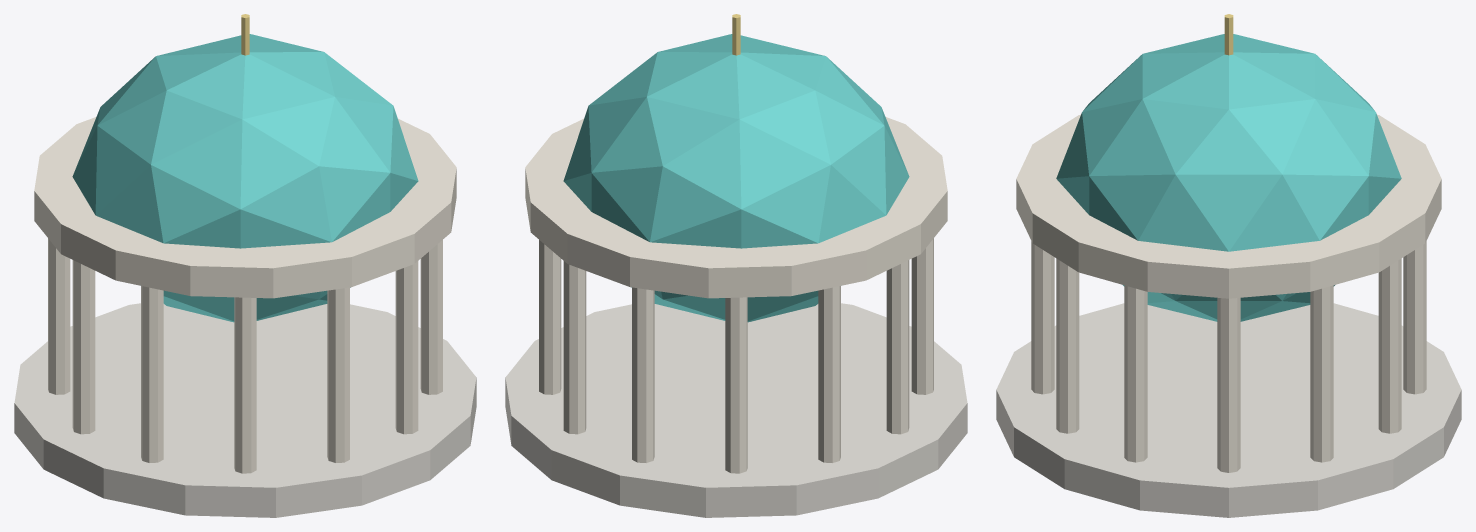
File: rotunda.glb
3 renders of one model, left to right at view 1: azimuth 30°, elevation 25°; view 2: azimuth 150°, elevation 25°; view 3: azimuth 270°, elevation 25°, orthographic.
Parts seen in each view (by area): view 1: Rotunda; view 2: Rotunda; view 3: Rotunda.
Boxes of the visible parts, left/top/right/bottom form: Rotunda: left=14, top=14, right=476, bottom=517; Rotunda: left=505, top=14, right=967, bottom=517; Rotunda: left=996, top=14, right=1461, bottom=517.
Bounding box in the file's own units: 14 × 13.4 × 14.
